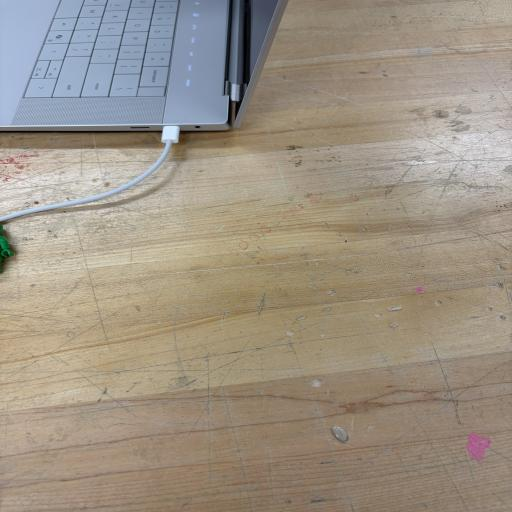Green-Lego: (0, 225, 14, 265)
